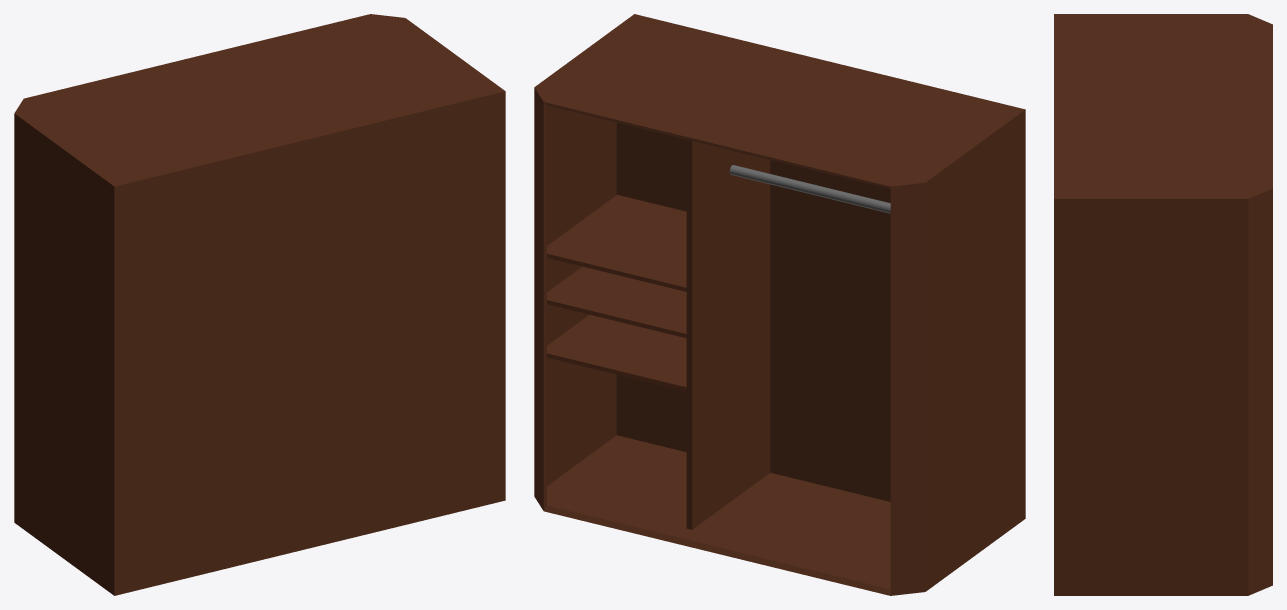
Rendered from шкаф.fbx.
3 renders of one model, left to right at view 1: azimuth 30°, elevation 25°; view 2: azimuth 150°, elevation 25°; view 3: azimuth 270°, elevation 25°, orthographic. The views are drawn at different scales.
Parts seen in each view (by area): view 1: Шкаф; view 2: Шкаф; view 3: Шкаф.
Boxes of the visible parts, left/top/right/bottom form: Шкаф: left=14, top=14, right=505, bottom=595; Шкаф: left=534, top=14, right=1025, bottom=595; Шкаф: left=1054, top=14, right=1272, bottom=595.
Size of the model in its own units: 2 by 1 by 2.
